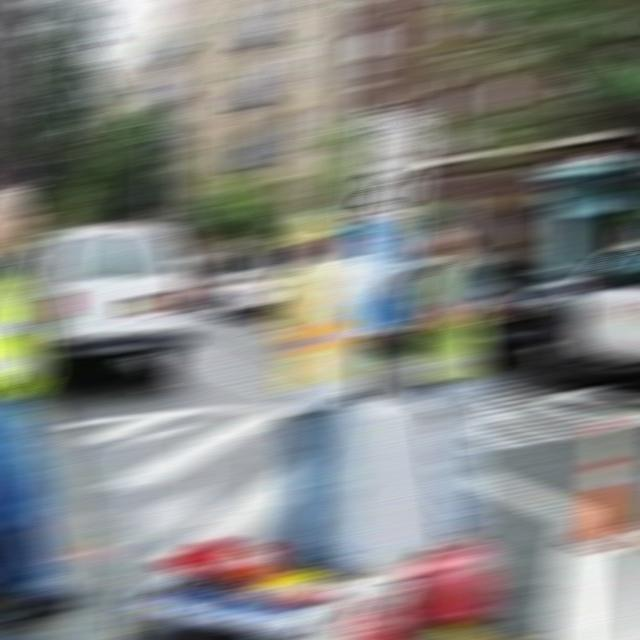speedLimit20: (345, 108, 436, 215)
